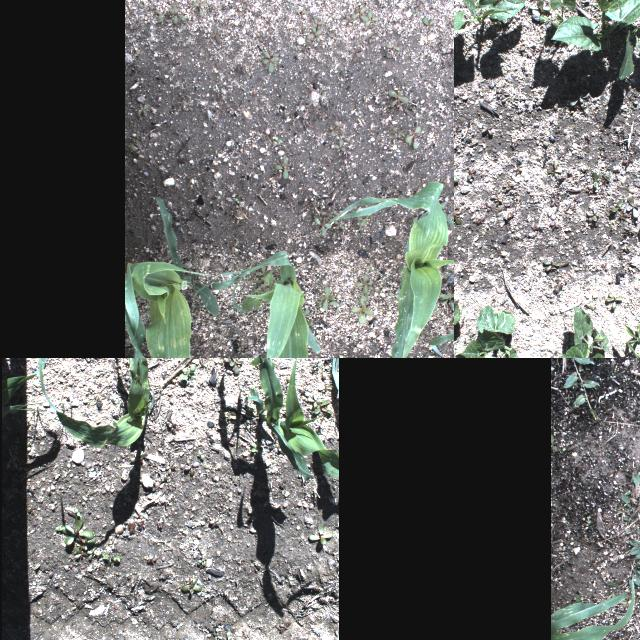crop: (342, 178, 454, 358), (125, 195, 218, 358), (206, 249, 324, 358), (20, 358, 155, 450), (235, 358, 325, 479), (539, 0, 640, 81), (551, 578, 640, 640), (551, 578, 635, 640), (558, 304, 614, 358), (454, 0, 525, 42), (460, 307, 517, 358), (3, 372, 37, 414), (427, 328, 454, 358), (318, 448, 338, 478), (327, 358, 339, 398), (138, 297, 148, 327)
weed: (605, 424, 640, 603), (551, 358, 599, 421), (52, 508, 100, 560), (348, 298, 378, 334), (311, 208, 344, 235), (258, 51, 286, 81), (305, 520, 333, 548), (348, 2, 378, 28), (386, 86, 414, 112), (358, 265, 382, 295), (153, 5, 187, 25), (306, 393, 332, 419), (178, 576, 206, 598), (314, 282, 334, 312), (98, 548, 130, 566), (270, 155, 292, 181), (179, 451, 205, 473), (440, 282, 454, 322), (404, 125, 424, 152), (320, 118, 350, 136), (180, 359, 200, 386), (132, 0, 157, 21), (206, 623, 236, 640), (302, 19, 324, 41), (189, 0, 210, 22), (163, 412, 180, 438), (222, 358, 245, 377), (268, 127, 286, 151), (161, 457, 175, 487), (230, 335, 247, 358), (328, 140, 352, 156), (294, 2, 312, 20), (385, 37, 405, 53), (129, 140, 145, 160), (626, 196, 640, 218), (225, 236, 242, 254), (203, 517, 224, 531), (546, 160, 562, 178), (527, 0, 549, 12), (230, 194, 243, 214), (276, 617, 292, 633), (542, 258, 560, 272), (606, 294, 624, 308), (192, 554, 210, 568), (182, 99, 194, 119), (223, 412, 240, 426), (422, 16, 438, 30), (208, 80, 222, 96), (610, 197, 624, 213), (586, 205, 600, 221), (92, 393, 106, 409), (311, 358, 322, 378), (330, 300, 348, 312), (444, 11, 454, 31), (408, 6, 422, 20), (254, 29, 268, 43), (136, 102, 148, 118), (248, 439, 258, 457), (350, 48, 360, 62), (454, 205, 461, 224), (592, 171, 600, 187), (354, 36, 366, 46), (258, 269, 270, 279), (618, 595, 630, 605), (116, 632, 130, 640), (573, 594, 583, 604), (550, 435, 556, 451), (221, 354, 241, 358), (254, 286, 262, 294), (561, 443, 569, 451), (54, 635, 66, 640), (636, 467, 640, 478), (586, 520, 590, 526)
